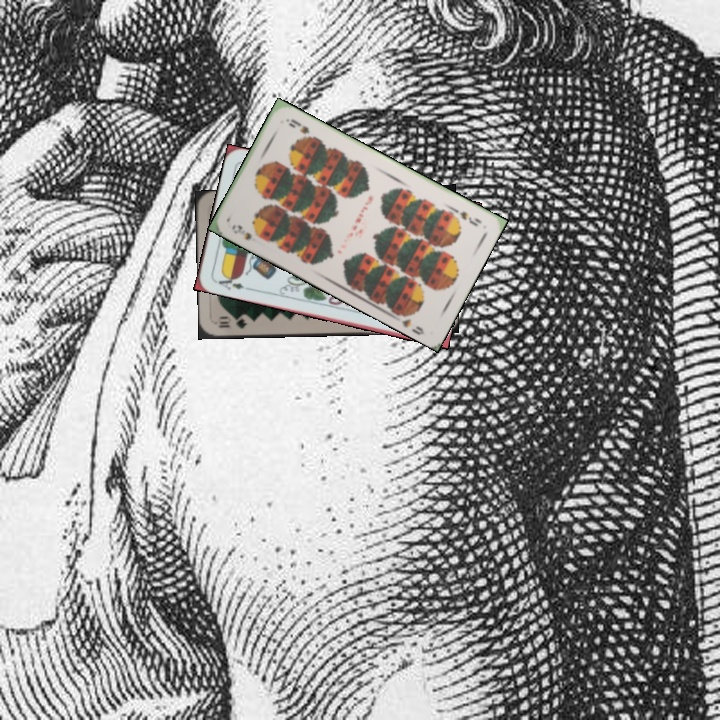EA: (211, 271, 251, 293)
G10: (214, 314, 250, 331)
S9: (227, 220, 265, 242), (456, 207, 484, 229)
